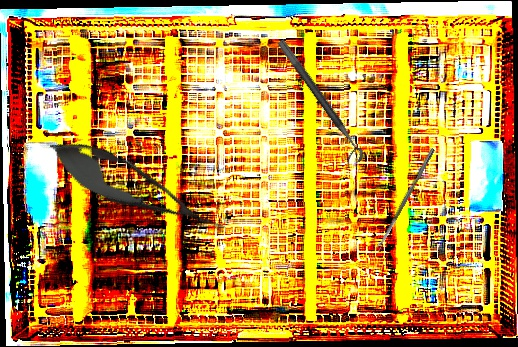Fixation Ring: (267, 38, 367, 169)
Micro Scissor: (39, 125, 236, 252)
Surgical Spoon: (374, 147, 436, 252)
